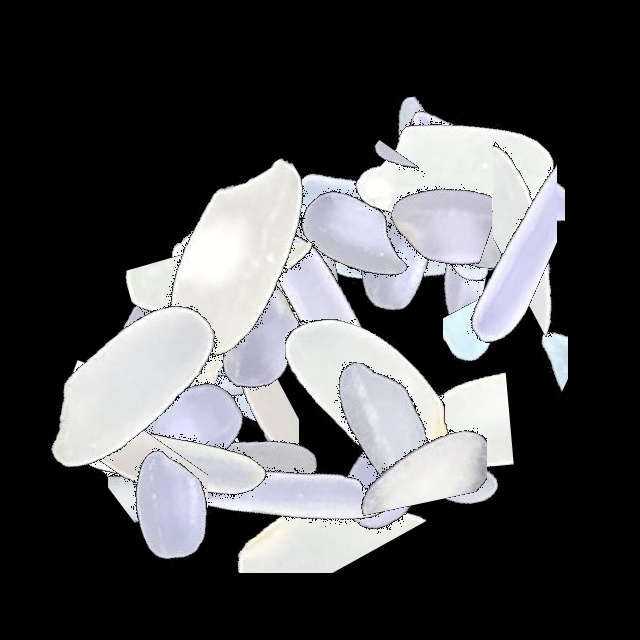Broken: (391, 83, 565, 333), (307, 145, 557, 316), (188, 202, 438, 373), (102, 232, 352, 402), (329, 87, 492, 337), (107, 252, 265, 502), (413, 99, 557, 349), (344, 306, 487, 556), (107, 243, 357, 378), (190, 442, 440, 573), (80, 384, 208, 634), (298, 202, 548, 329), (108, 341, 233, 591), (323, 363, 573, 485), (33, 403, 283, 524), (493, 97, 614, 347), (180, 309, 299, 559), (354, 88, 449, 338), (56, 294, 149, 544), (49, 349, 139, 599), (307, 84, 557, 170), (486, 242, 568, 492), (443, 216, 520, 466), (250, 98, 327, 348), (150, 336, 225, 586)
Full: (104, 250, 354, 500), (265, 347, 515, 597), (306, 133, 556, 383), (306, 334, 556, 584), (118, 336, 368, 586), (244, 82, 494, 332), (178, 161, 428, 411), (2, 236, 252, 486), (108, 207, 358, 457), (131, 177, 381, 427), (299, 41, 549, 291), (77, 185, 327, 435), (336, 86, 586, 336), (269, 131, 519, 381), (228, 113, 478, 363), (334, 52, 584, 302), (166, 375, 416, 625), (57, 312, 307, 562), (133, 212, 383, 462), (243, 275, 493, 525), (38, 330, 288, 580), (259, 300, 509, 550), (118, 134, 368, 384), (44, 382, 294, 632), (0, 259, 250, 509)
